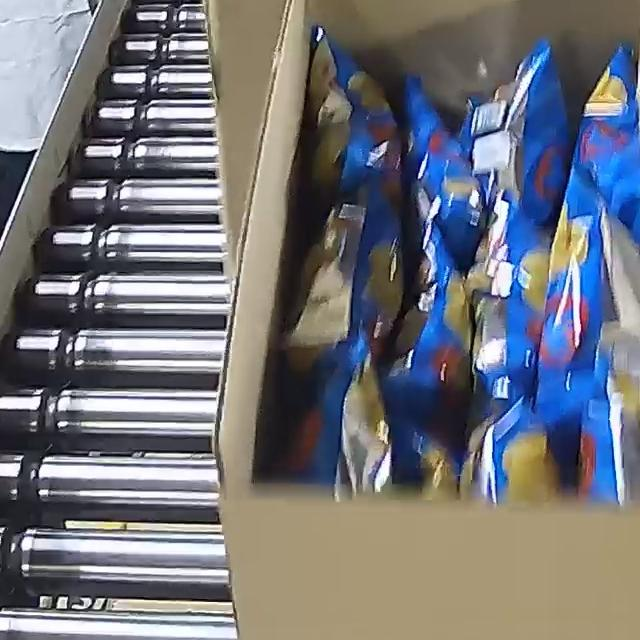paprika: (268, 21, 640, 506)
